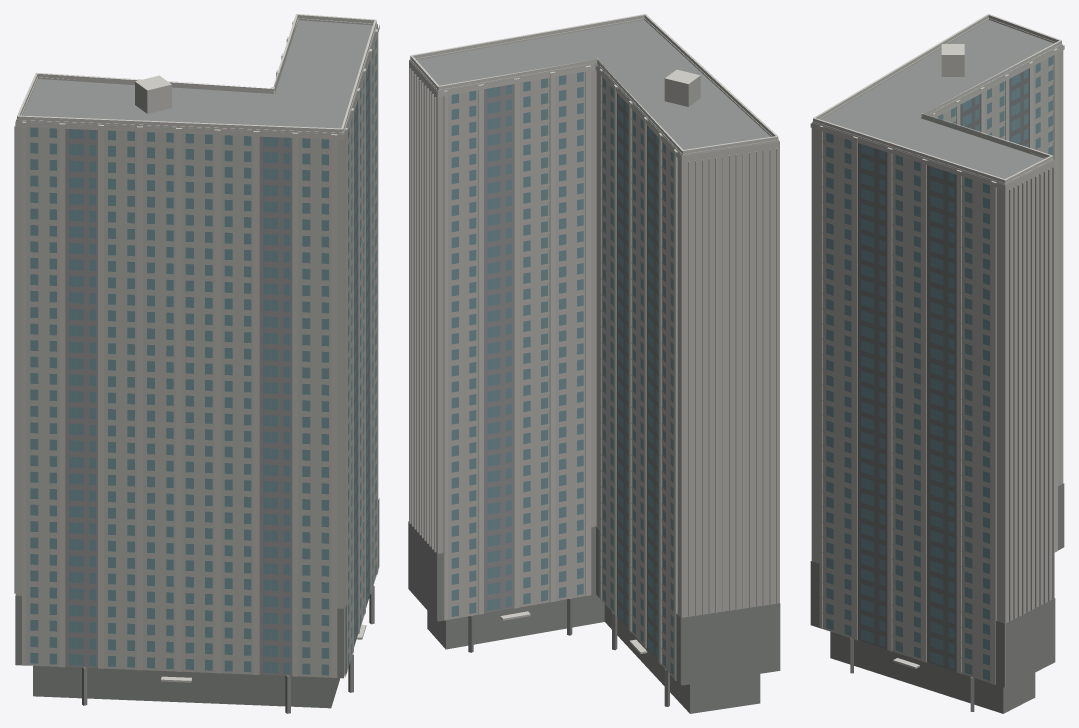
The model's file is maple-xi-110.glb.
3 renders of one model, left to right at view 1: azimuth 30°, elevation 25°; view 2: azimuth 150°, elevation 25°; view 3: azimuth 270°, elevation 25°, orthographic. The views are drawn at different scales.
Parts seen in each view (by area): view 1: maple-xi-110; view 2: maple-xi-110; view 3: maple-xi-110.
Boxes of the visible parts, x1,y1,x2,y2 form: maple-xi-110: (14,14,379,713); maple-xi-110: (408,14,780,713); maple-xi-110: (810,14,1064,713).
Size of the model in its own units: 73.2 by 113 by 46.7.
